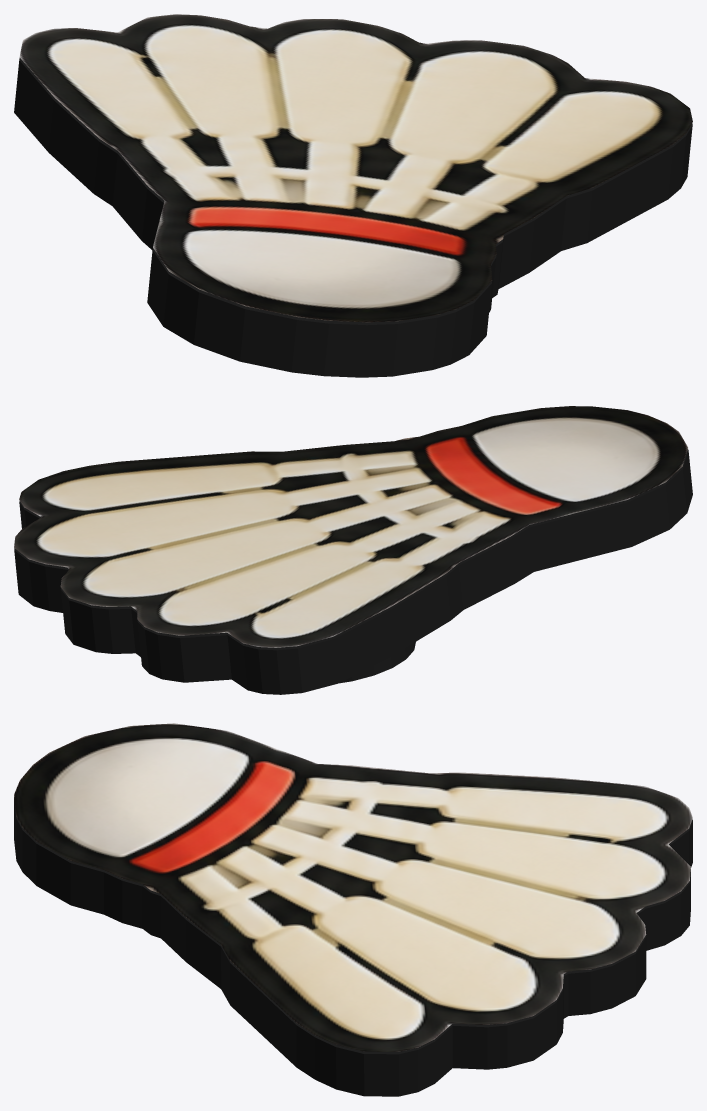
File: sports-badminton.glb
The picture shows the model from 3 angles, top to bottom: view 1: azimuth 30°, elevation 25°; view 2: azimuth 150°, elevation 25°; view 3: azimuth 270°, elevation 25°; orthographic projection. The views are drawn at different scales.
Visible parts, largest first — view 1: SPORTS_Badminton_MODEL; view 2: SPORTS_Badminton_MODEL; view 3: SPORTS_Badminton_MODEL.
Boxes of the visible parts, x1,y1,x2,y2 form: SPORTS_Badminton_MODEL: (14,14,692,377); SPORTS_Badminton_MODEL: (14,406,692,694); SPORTS_Badminton_MODEL: (14,723,692,1096).
Bounding box in the file's own units: 0.3292 × 0.0998 × 0.3501.
Materials: 3 (1 with a texture image).
